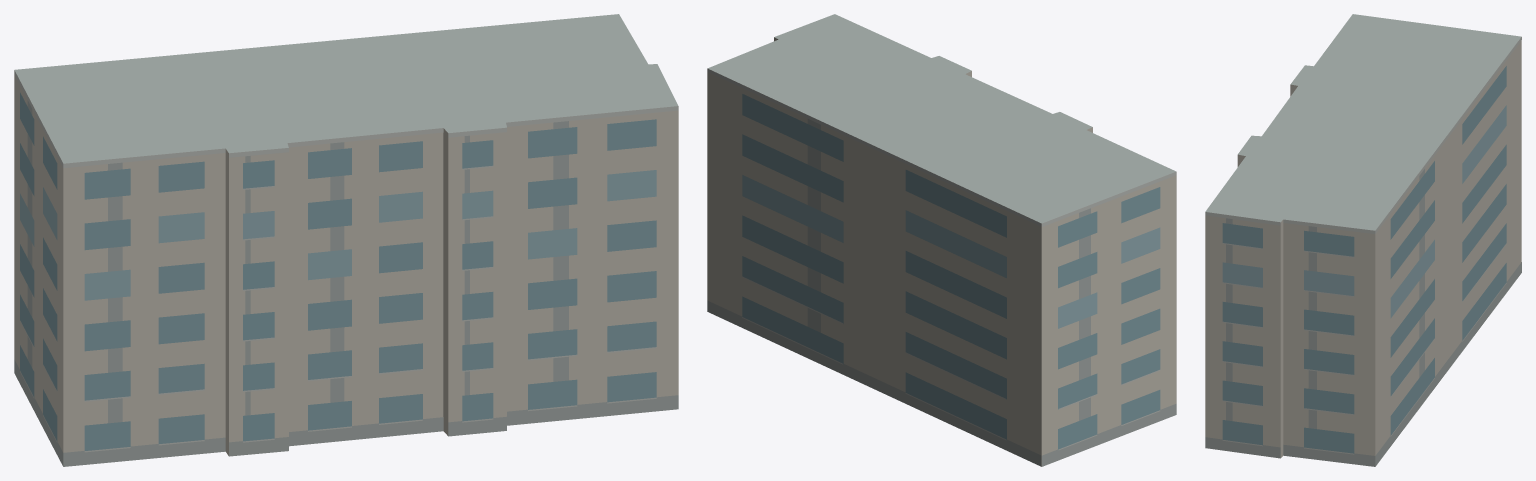
File: survey-upis-32937294.glb
3 views of the same model, side by side, from view 1: azimuth 30°, elevation 25°; view 2: azimuth 150°, elevation 25°; view 3: azimuth 270°, elevation 25° (orthographic). The views are drawn at different scales.
Parts seen in each view (by area): view 1: survey-upis-32937294.tmp; view 2: survey-upis-32937294.tmp; view 3: survey-upis-32937294.tmp.
Part boxes in pixels (x1,y1,x2,y2): survey-upis-32937294.tmp: (14, 14, 678, 466); survey-upis-32937294.tmp: (707, 14, 1176, 466); survey-upis-32937294.tmp: (1205, 14, 1521, 466).
Size of the model in its own units: 32.42 by 16.47 by 20.01.
